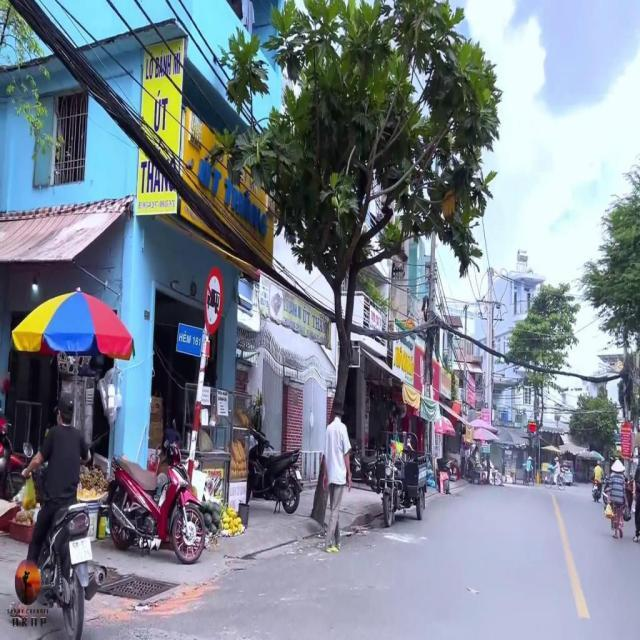106-cam-oto-tai: (203, 266, 224, 338)
